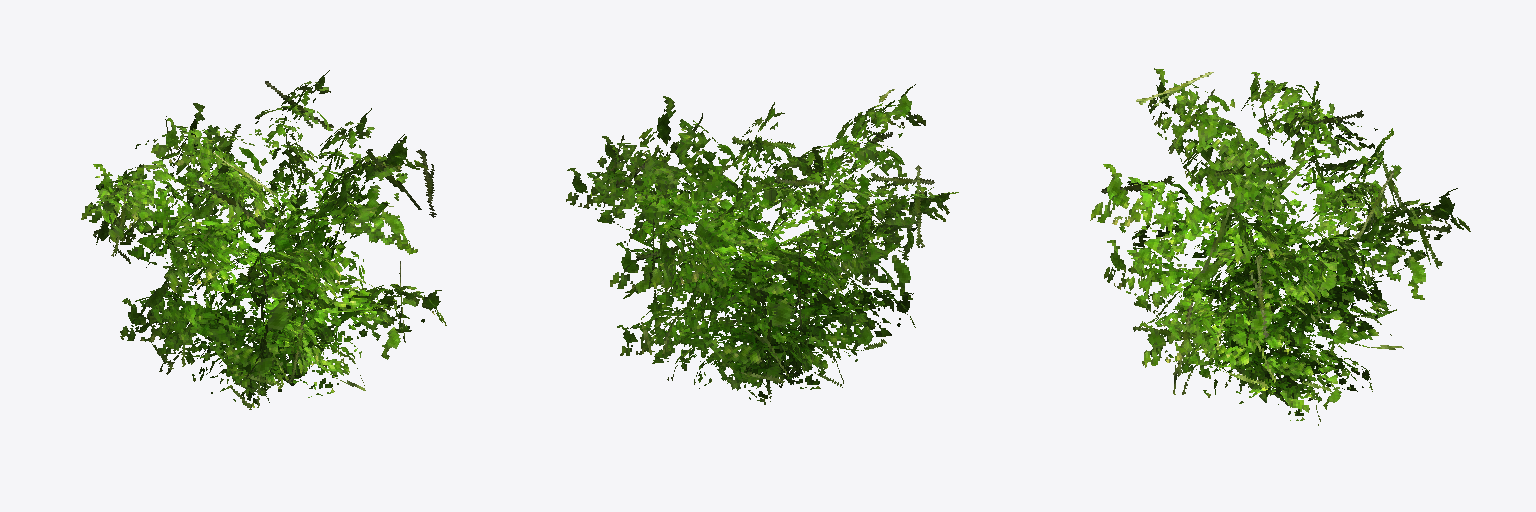
3 renders of one model, left to right at view 1: azimuth 30°, elevation 25°; view 2: azimuth 150°, elevation 25°; view 3: azimuth 270°, elevation 25°, orthographic.
Parts seen in each view (by area): view 1: AM113_079_shrubs; view 2: AM113_079_shrubs; view 3: AM113_079_shrubs.
Boxes of the visible parts, x1,y1,x2,y2 form: AM113_079_shrubs: [81, 70, 446, 409]; AM113_079_shrubs: [566, 84, 958, 404]; AM113_079_shrubs: [1090, 68, 1470, 425].
Size of the model in its own units: 206 by 157 by 199.
Materials: 1 (1 with a texture image).